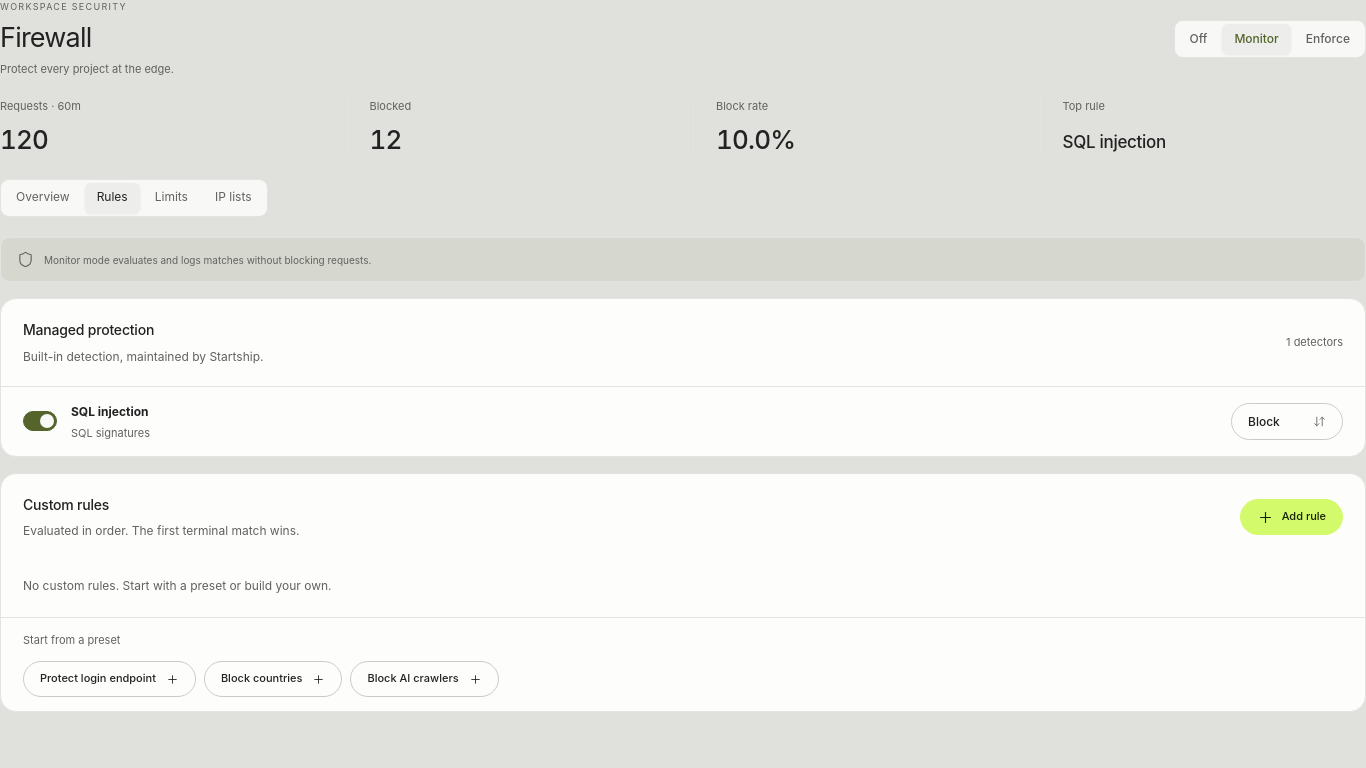
Test: workspace firewall › builds country chips, filters operators by field, warns about GeoIP and reports invalid rules
Click the button "Block countries": (273, 679) [204,661,342,697]
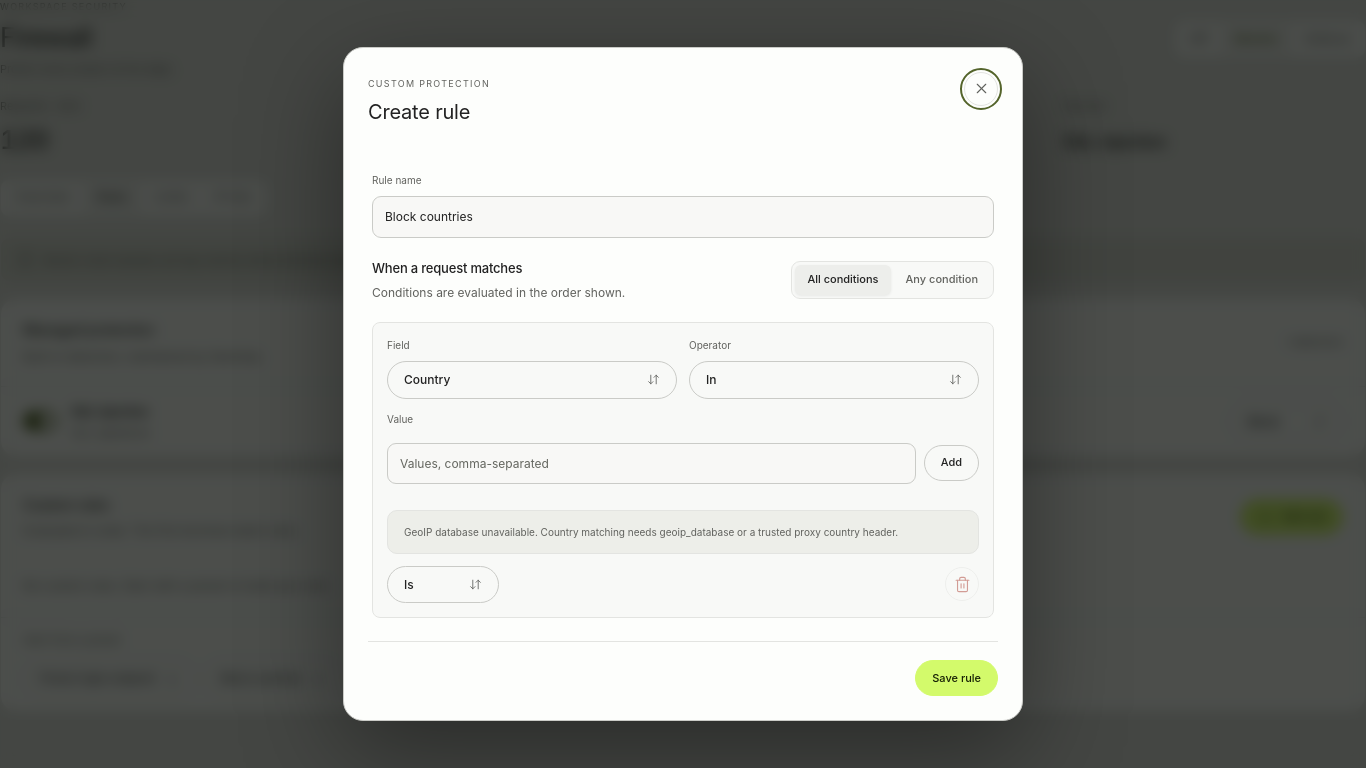
Expected: the text "GeoIP database unavailable" is shown, [404,526,898,538]
In the field named "Condition values": (651, 463) [387,443,916,484], type "US,CA"
Then press Enter
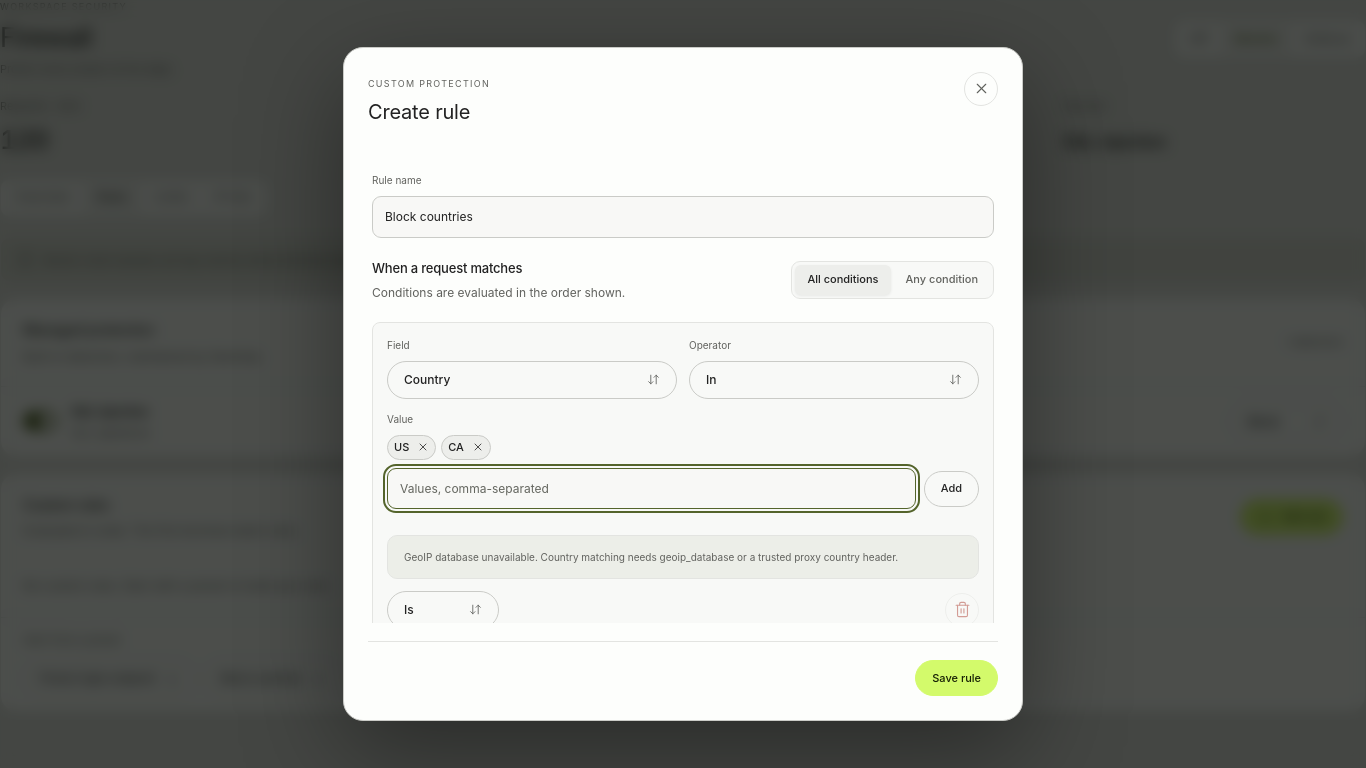
Click the button "Any condition": (942, 280) [894,265,990,295]
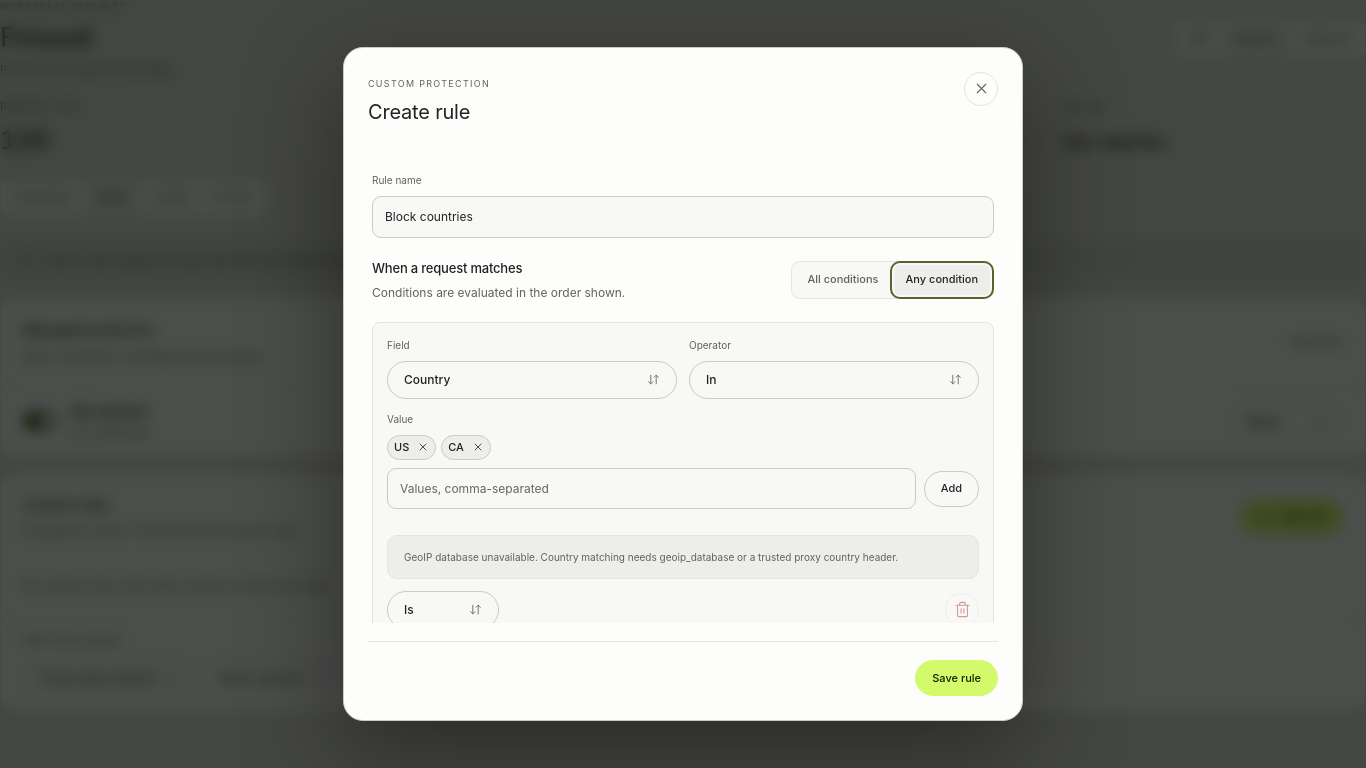
Click the button "Save rule": (957, 678) [915,660,998,696]
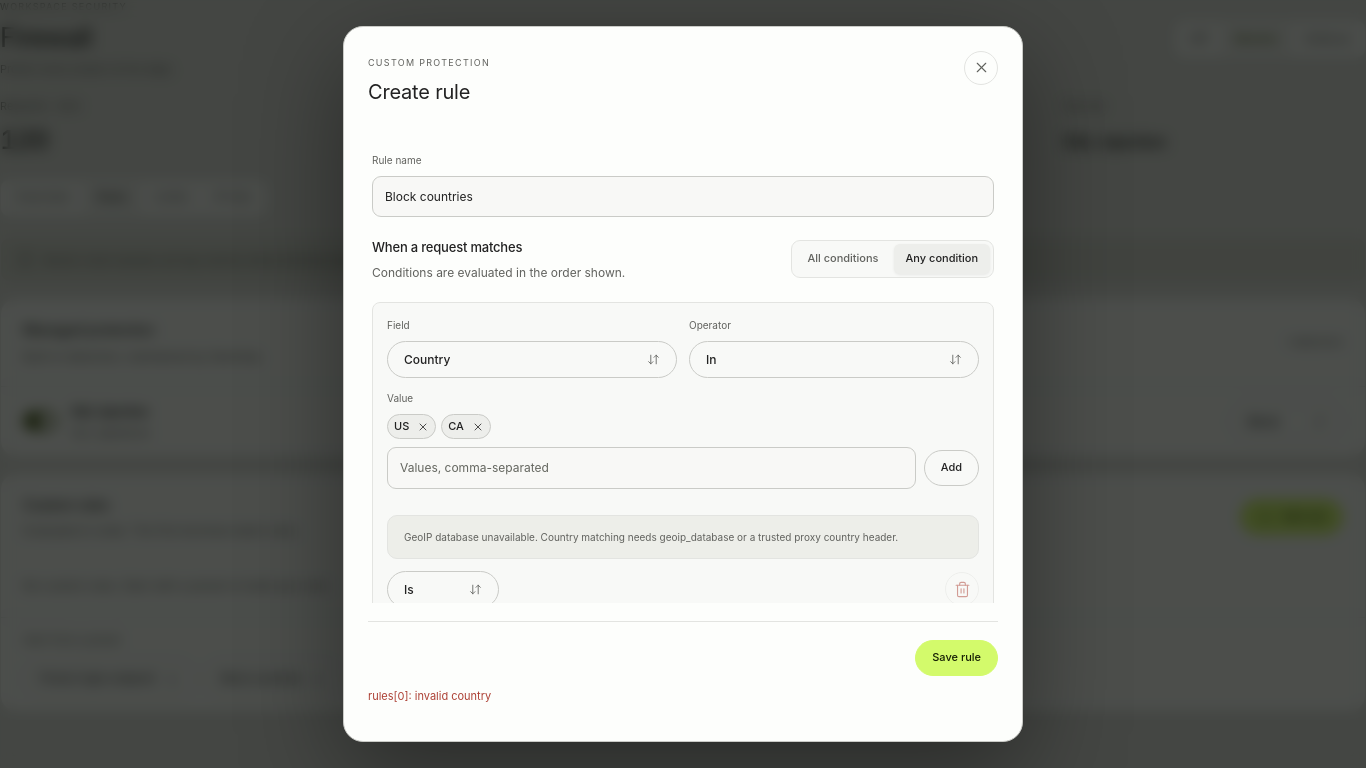
Expected: the message reads "rules[0]: invalid country", [368,689,491,703]
